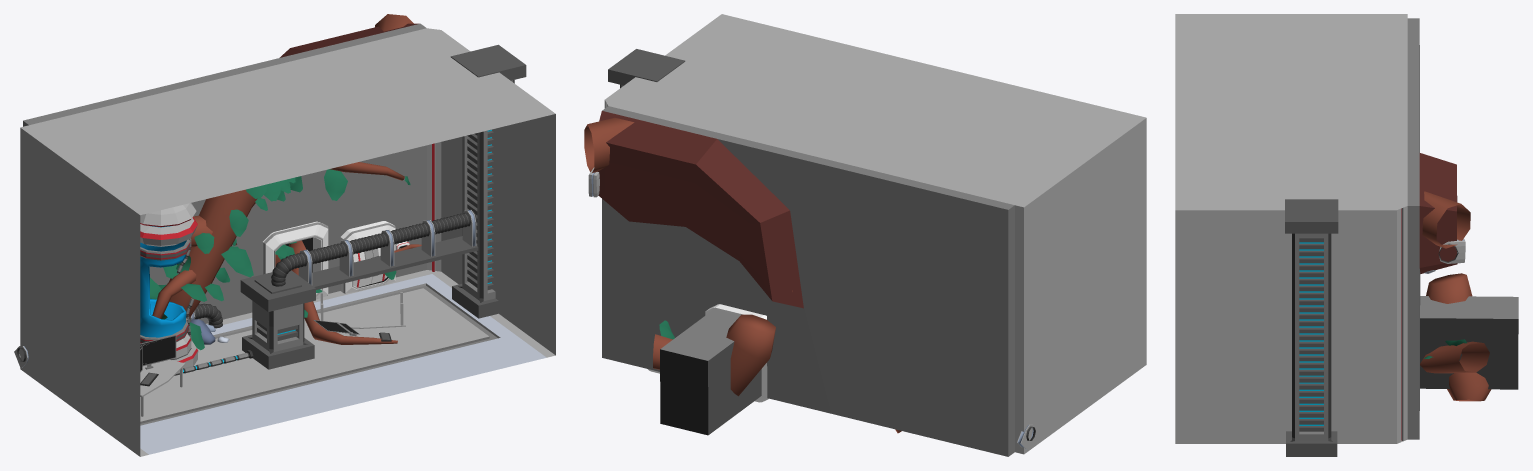
The model's file is room01.glb.
3 views of the same model, side by side, from view 1: azimuth 30°, elevation 25°; view 2: azimuth 150°, elevation 25°; view 3: azimuth 270°, elevation 25° (orthographic). The views are drawn at different scales.
Parts seen in each view (by area): view 1: Room01; view 2: Room01; view 3: Room01.
Part boxes in pixels (left/top/right/bottom): Room01: left=14, top=14, right=555, bottom=456; Room01: left=584, top=14, right=1146, bottom=456; Room01: left=1175, top=14, right=1518, bottom=456.
Size of the model in its own units: 19.33 by 10.79 by 13.31.
1 material, 1 textured.
